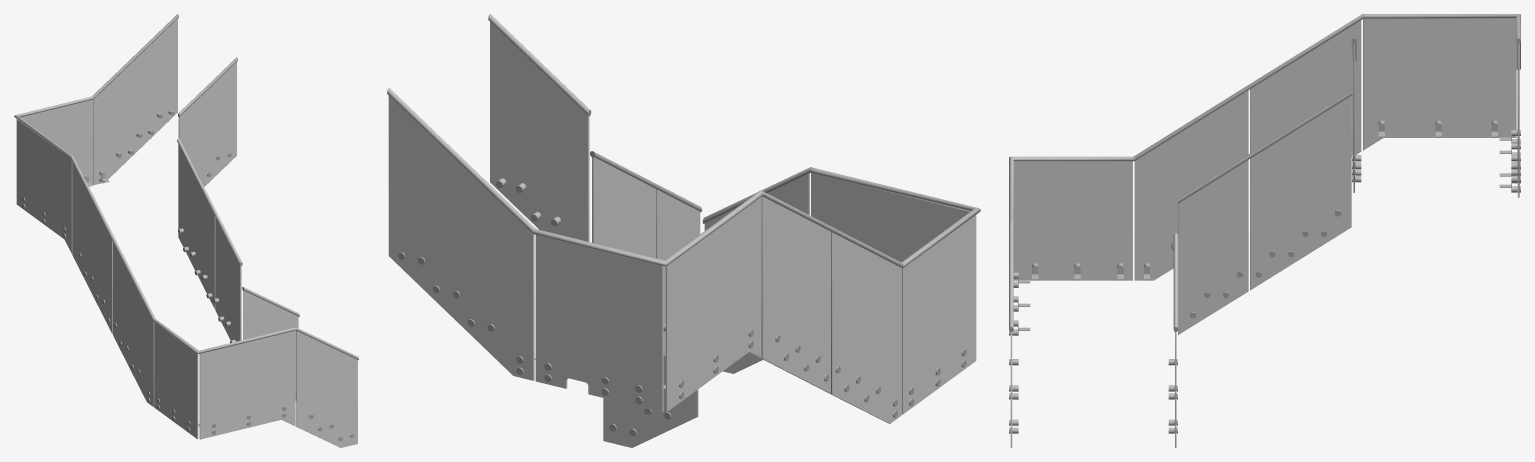
File: U-Shaped_Railing_Optik-Boss.gltf
3 renders of one model, left to right at view 1: azimuth 30°, elevation 25°; view 2: azimuth 150°, elevation 25°; view 3: azimuth 270°, elevation 25°, orthographic. The views are drawn at different scales.
Visible parts, largest first — view 1: Casework 2 Casework 1 [8743341], Casework 4 Casework 1 [8744916], Casework 4 Casework 1 [8744916]003, Casework 2 Casework 1 [8743341]002, Object009, Casework 6 Casework 1 [8445804], Casework 5 Casework 1 [8445778], Casework 6 Casework 1 [8445804]003, Generic Models 11 Generic Models 11 [8762451], Generic Models 11 Generic Models 11 [8762451]006, Generic Models 7 Generic Models 1 [8445814]; view 2: Casework 2 Casework 1 [8743341], Casework 4 Casework 1 [8744916], Casework 2 Casework 1 [8743341]002, Casework 5 Casework 1 [8445778], Casework 6 Casework 1 [8445804], Casework 4 Casework 1 [8744916]003, Casework 6 Casework 1 [8445804]003, Generic Models 11 Generic Models 11 [8762451], Generic Models 11 Generic Models 11 [8762451]006, Object009, Generic Models 11 Generic Models 11 [8762451]002, Generic Models 7 Generic Models 1 [8445814] (+1 smaller); view 3: Casework 4 Casework 1 [8744916], Casework 2 Casework 1 [8743341]002, Casework 6 Casework 1 [8445804], Generic Models 11 Generic Models 11 [8762451]006, Generic Models 7 Generic Models 1 [8445814], Generic Models 11 Generic Models 11 [8762451], Object011, Generic Models 7 Generic Models 1 [8445814]003, Object005.
Part boxes in pixels (<box>): Casework 2 Casework 1 [8743341]: <box>20,18,177,185</box>; Casework 4 Casework 1 [8744916]: <box>16,119,112,333</box>; Casework 4 Casework 1 [8744916]003: <box>199,330,295,439</box>; Casework 2 Casework 1 [8743341]002: <box>113,242,198,439</box>; Object009: <box>296,331,357,447</box>; Casework 6 Casework 1 [8445804]: <box>178,144,241,341</box>; Casework 5 Casework 1 [8445778]: <box>178,62,236,186</box>; Casework 6 Casework 1 [8445804]003: <box>243,290,298,400</box>; Generic Models 11 Generic Models 11 [8762451]: <box>14,14,178,156</box>; Generic Models 11 Generic Models 11 [8762451]006: <box>106,226,292,354</box>; Generic Models 7 Generic Models 1 [8445814]: <box>177,138,242,265</box>; Casework 2 Casework 1 [8743341]: <box>388,95,663,412</box>; Casework 4 Casework 1 [8744916]: <box>665,196,830,411</box>; Casework 2 Casework 1 [8743341]002: <box>831,215,976,423</box>; Casework 5 Casework 1 [8445778]: <box>490,22,589,241</box>; Casework 6 Casework 1 [8445804]: <box>592,157,700,356</box>; Casework 4 Casework 1 [8744916]003: <box>811,173,969,262</box>; Casework 6 Casework 1 [8445804]003: <box>603,356,698,447</box>; Generic Models 11 Generic Models 11 [8762451]: <box>387,88,759,266</box>; Generic Models 11 Generic Models 11 [8762451]006: <box>816,169,980,268</box>; Object009: <box>704,173,809,373</box>; Generic Models 11 Generic Models 11 [8762451]002: <box>488,14,591,116</box>; Generic Models 7 Generic Models 1 [8445814]: <box>590,151,702,212</box>; Casework 4 Casework 1 [8744916]: <box>1250,18,1516,157</box>; Casework 2 Casework 1 [8743341]002: <box>1013,90,1248,280</box>; Casework 6 Casework 1 [8445804]: <box>1178,95,1351,334</box>; Generic Models 11 Generic Models 11 [8762451]006: <box>1009,76,1262,221</box>; Generic Models 7 Generic Models 1 [8445814]: <box>1177,90,1352,203</box>; Generic Models 11 Generic Models 11 [8762451]: <box>1368,14,1520,69</box>; Object011: <box>1263,14,1368,80</box>; Generic Models 7 Generic Models 1 [8445814]003: <box>1173,233,1178,331</box>; Object005: <box>1009,220,1013,331</box>.
Size of the model in its own units: 2.13 by 3.69 by 4.16.
